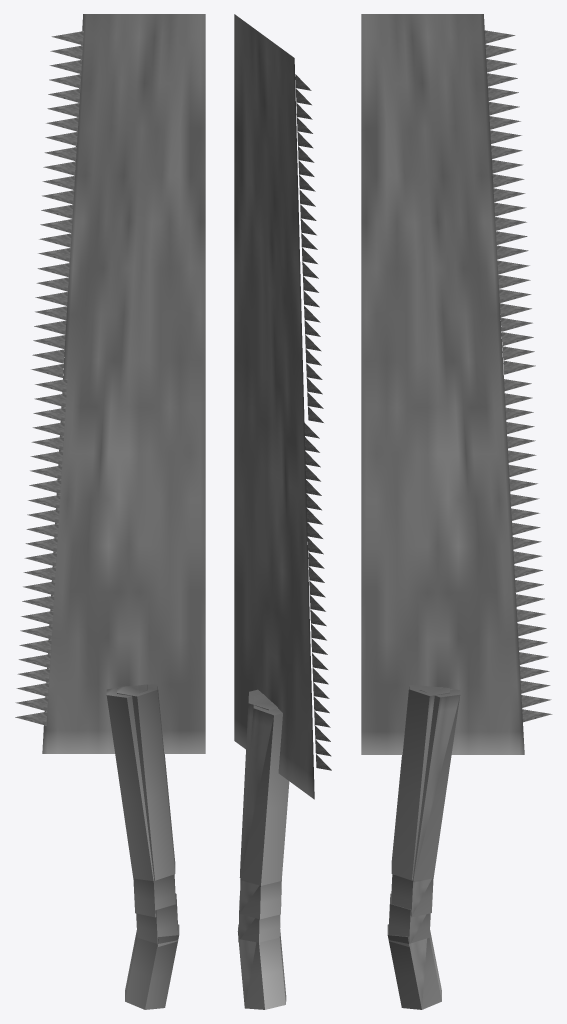
3 renders of one model, left to right at view 1: azimuth 90°, elevation 25°; view 2: azimuth 210°, elevation 25°; view 3: azimuth 270°, elevation 25°, orthographic.
Parts seen in each view (by area): view 1: Head, Handle; view 2: Head, Handle; view 3: Head, Handle.
Boxes of the visible parts, x1=… form: Head: x1=15, y1=14, x2=205, y2=753; Handle: x1=106, y1=684, x2=179, y2=1009; Head: x1=234, y1=14, x2=331, y2=799; Handle: x1=237, y1=689, x2=289, y2=1009; Head: x1=361, y1=14, x2=552, y2=754; Handle: x1=387, y1=685, x2=460, y2=1009.
Bounding box in the file's own units: 0.0375 × 0.8347 × 0.1464.
